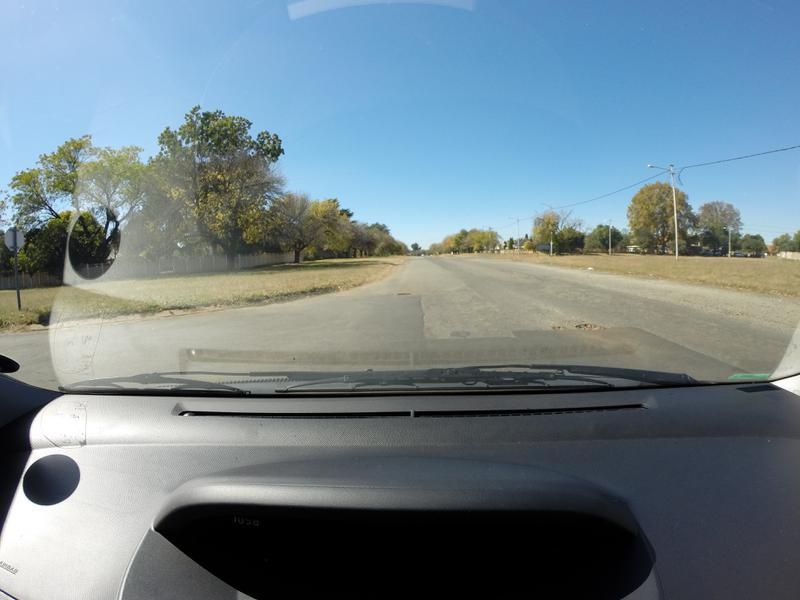pothole: (578, 318, 605, 334), (546, 321, 572, 336)
